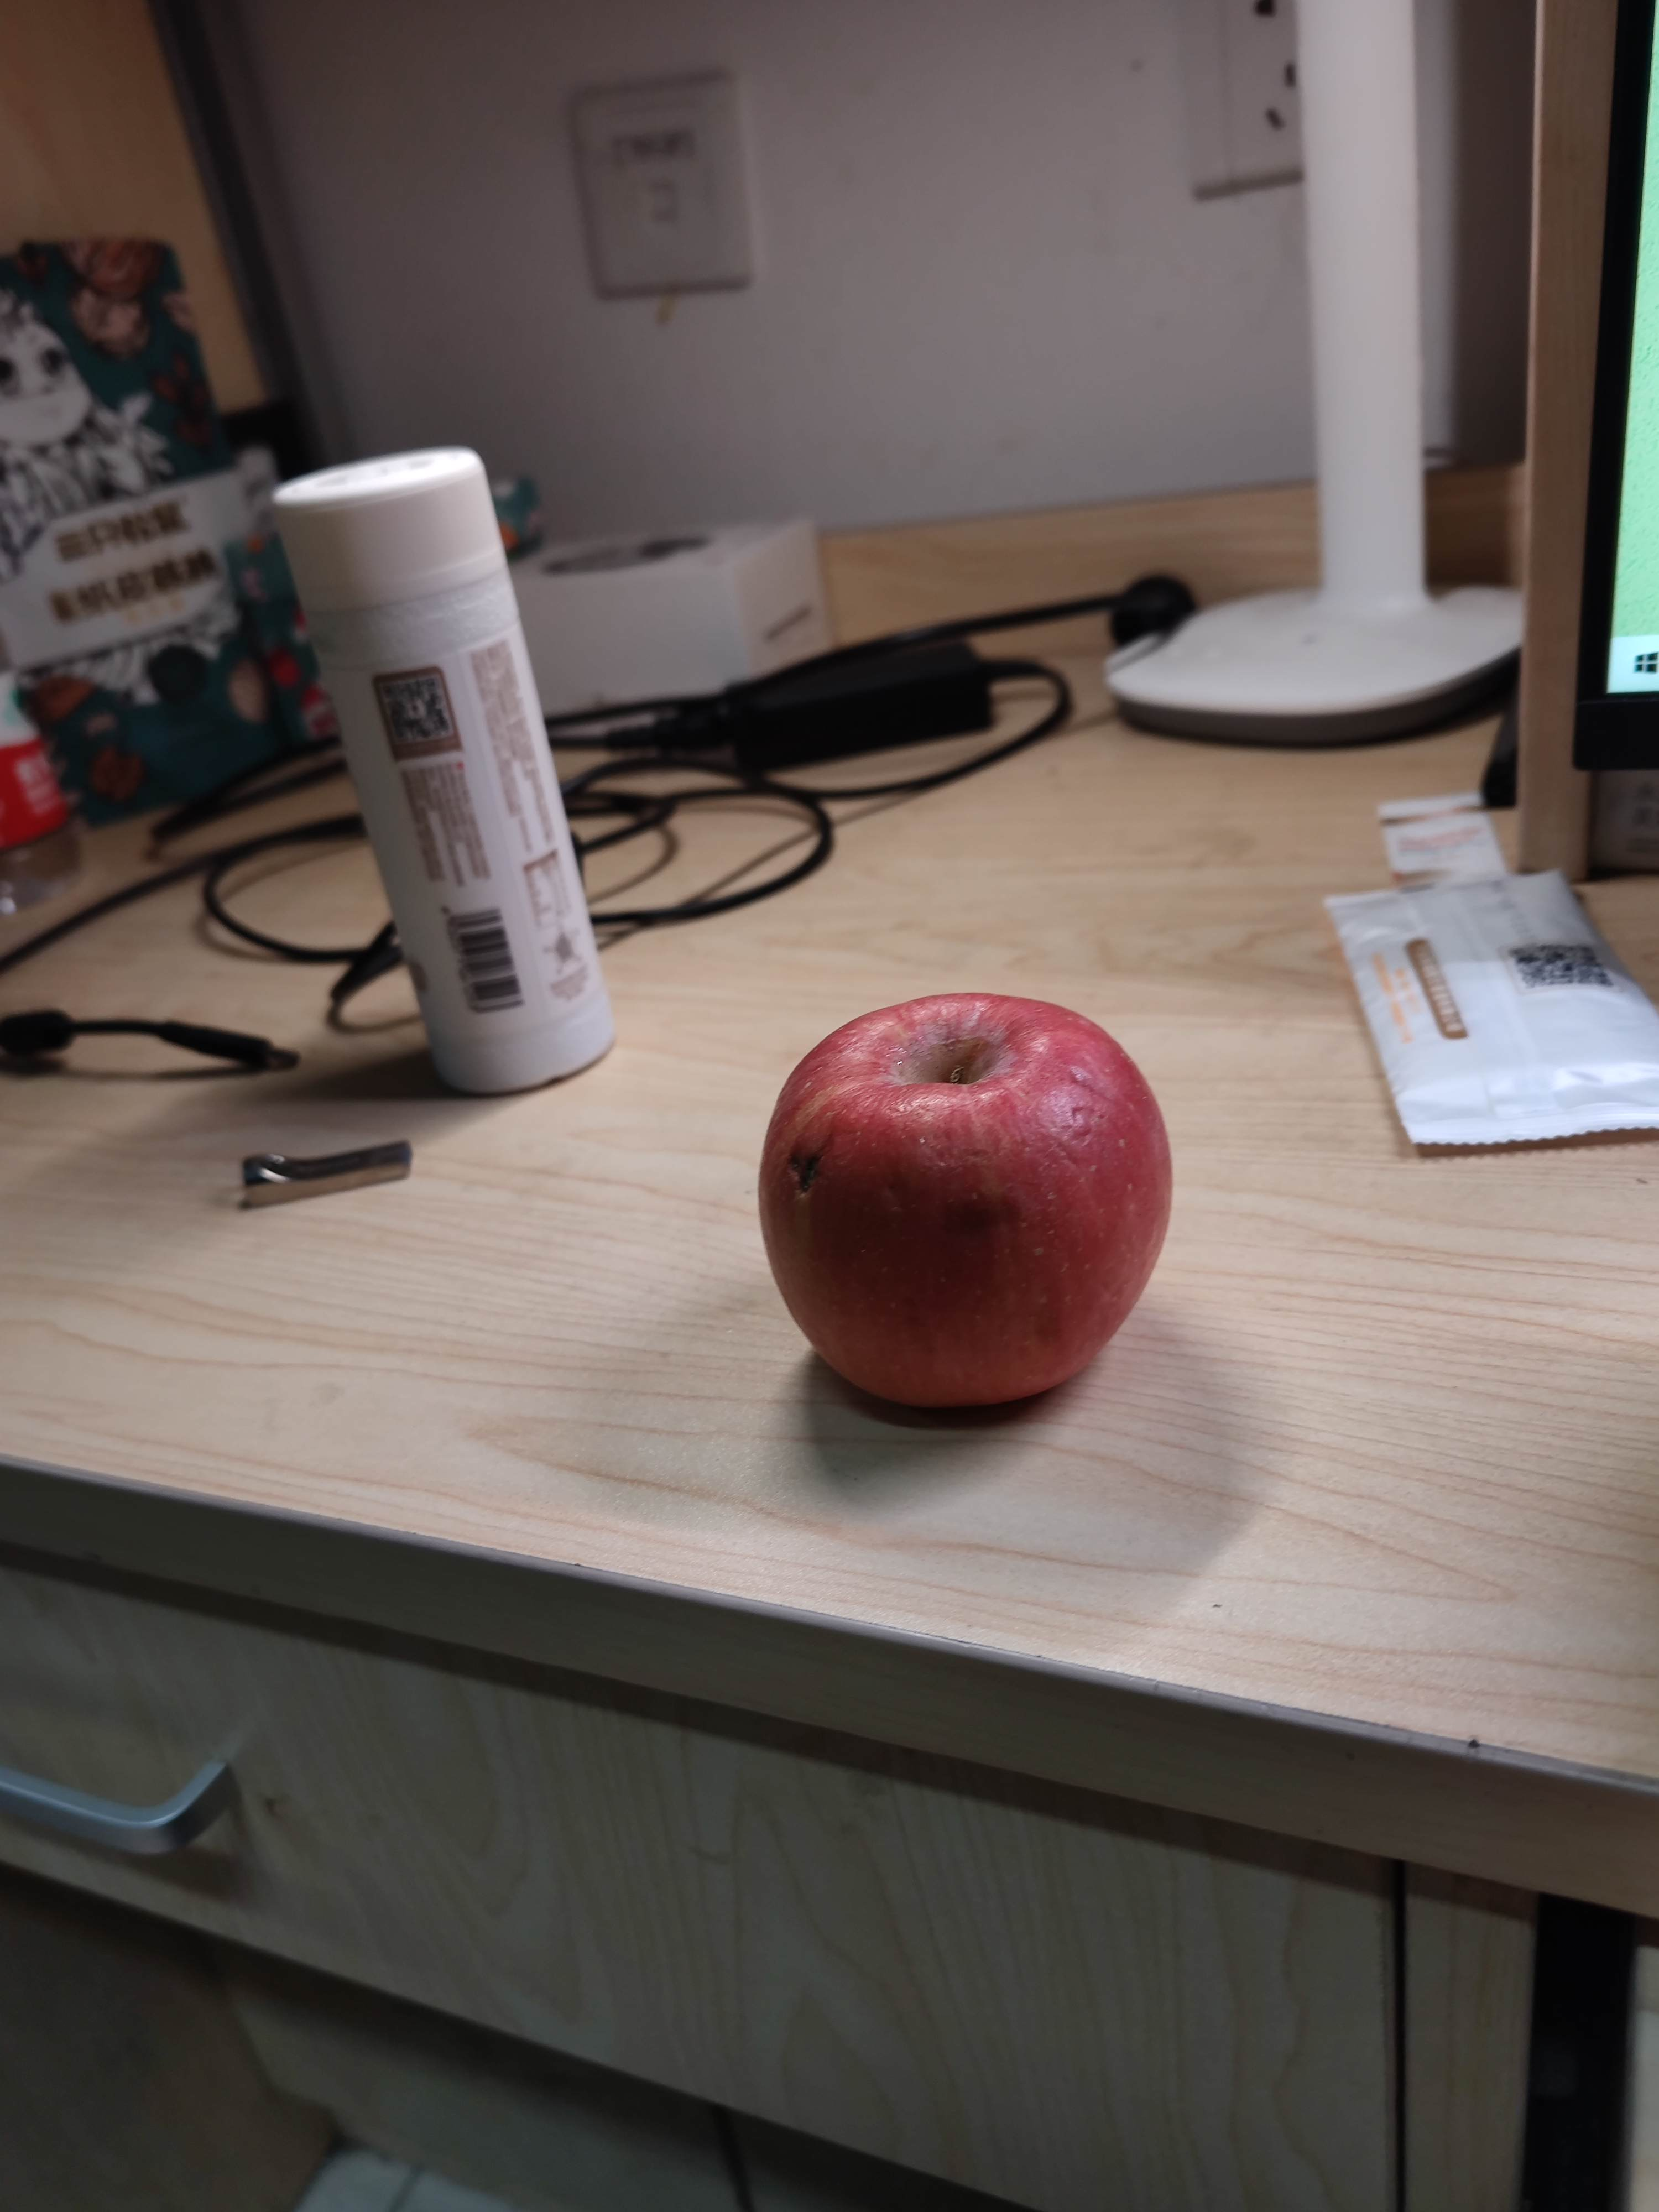apple: (755, 986, 1182, 1414)
